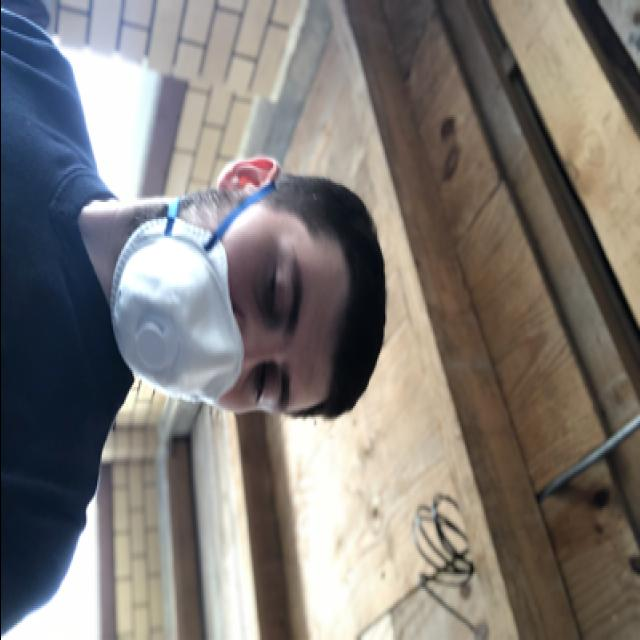mask: (115, 206, 315, 412)
